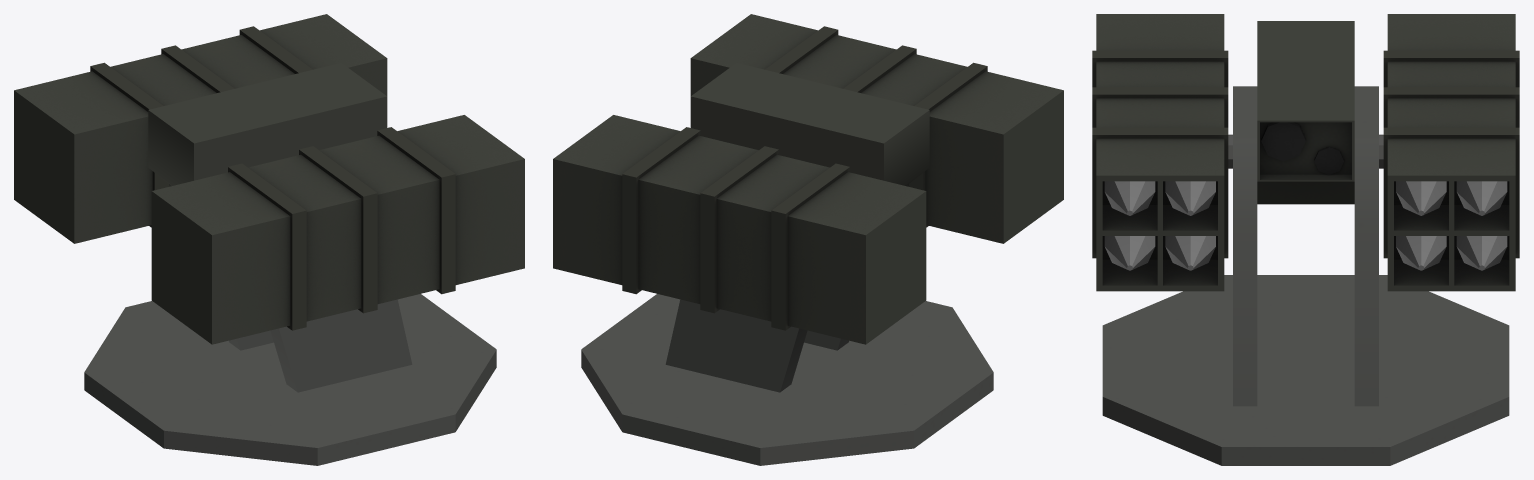
The model's file is SAM_Site.fbx.
The picture shows the model from 3 angles, left to right: view 1: azimuth 30°, elevation 25°; view 2: azimuth 150°, elevation 25°; view 3: azimuth 270°, elevation 25°; orthographic projection. The views are drawn at different scales.
Parts seen in each view (by area): view 1: Sam_System_Missile_Launcher_Right, Sam_System_Rotate_Plate, Sam_System_Missile_Launcher_Left, Sam_System_Radar, Sam_System_Housing_Right, Sam_System_Housing_Left; view 2: Sam_System_Missile_Launcher_Left, Sam_System_Rotate_Plate, Sam_System_Missile_Launcher_Right, Sam_System_Radar, Sam_System_Housing_Left, Sam_System_Housing_Right; view 3: Sam_System_Rotate_Plate, Sam_System_Missile_Launcher_Right, Sam_System_Missile_Launcher_Left, Sam_System_Radar, Sam_System_Housing_Left, Sam_System_Housing_Right, Sam_System_Missile_1 (×2), Sam_System_Missile_2 (×2), Sam_System_Missile_3 (×2), Sam_System_Missile_4 (×2).
Part boxes in pixels (x1,y1,x2,y2): Sam_System_Missile_Launcher_Right: (151,115,524,344); Sam_System_Rotate_Plate: (84,294,496,465); Sam_System_Missile_Launcher_Left: (14,14,387,243); Sam_System_Radar: (148,63,387,185); Sam_System_Housing_Right: (270,299,412,392); Sam_System_Housing_Left: (229,330,273,350); Sam_System_Missile_Launcher_Left: (553,115,926,344); Sam_System_Rotate_Plate: (581,294,993,465); Sam_System_Missile_Launcher_Right: (690,14,1063,243); Sam_System_Radar: (690,63,929,185); Sam_System_Housing_Left: (665,299,807,392); Sam_System_Housing_Right: (804,330,848,350); Sam_System_Rotate_Plate: (1102,275,1509,465); Sam_System_Missile_Launcher_Right: (1092,14,1228,291); Sam_System_Missile_Launcher_Left: (1383,14,1519,291); Sam_System_Radar: (1257,21,1354,204); Sam_System_Housing_Left: (1354,86,1378,406); Sam_System_Housing_Right: (1233,86,1257,406); Sam_System_Missile_1 (×2): (1104,181,1446,215); Sam_System_Missile_2 (×2): (1165,181,1507,215); Sam_System_Missile_3 (×2): (1165,236,1507,270); Sam_System_Missile_4 (×2): (1104,236,1446,270).
Bounding box in the file's own units: 3.46 × 2.7 × 3.52.
